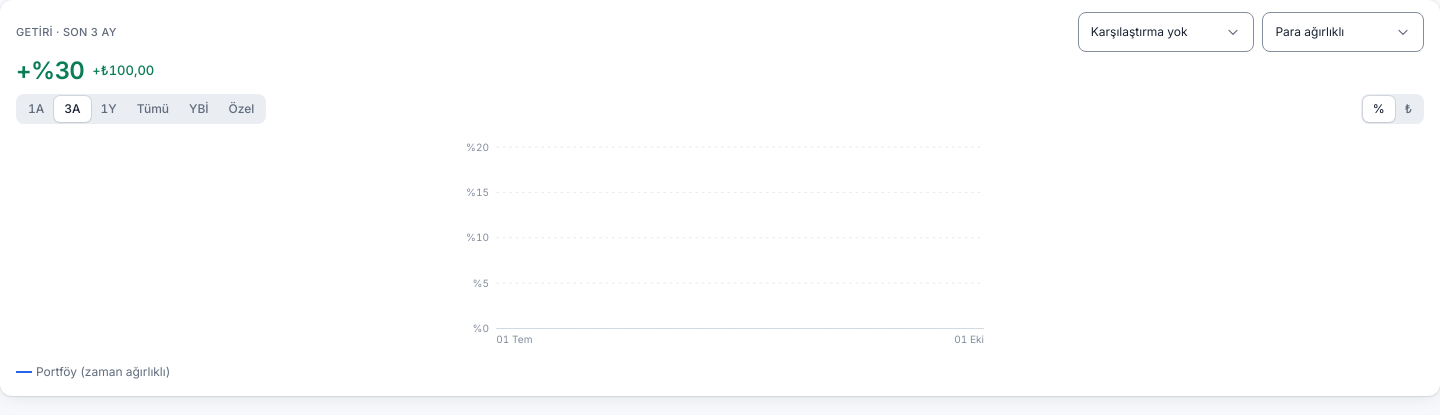
it: ReturnCard › percent mode › switches to the value chart and keeps the choice
Click the radio button labelled "₺": coordinates (1408, 109) [1395,96,1422,122]
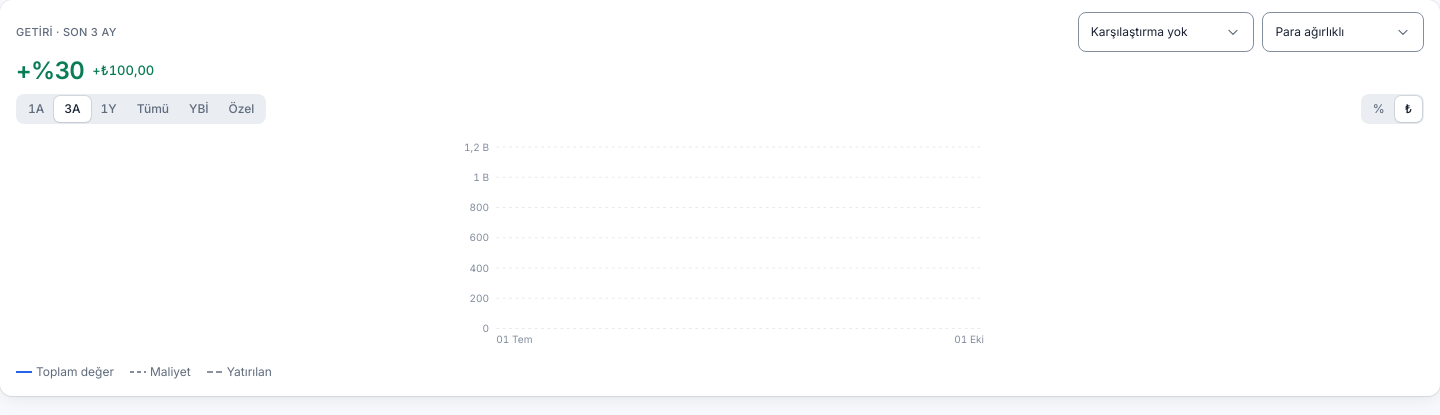
Result: the element showing "Toplam değer Maliyet Yatırılan" is shown at [16,364,272,380]
Press ArrowRight in the icon "01 Tem 01 Eki 0 200 400 600 800 1 B 1,2 B", box [16,136,1424,356]
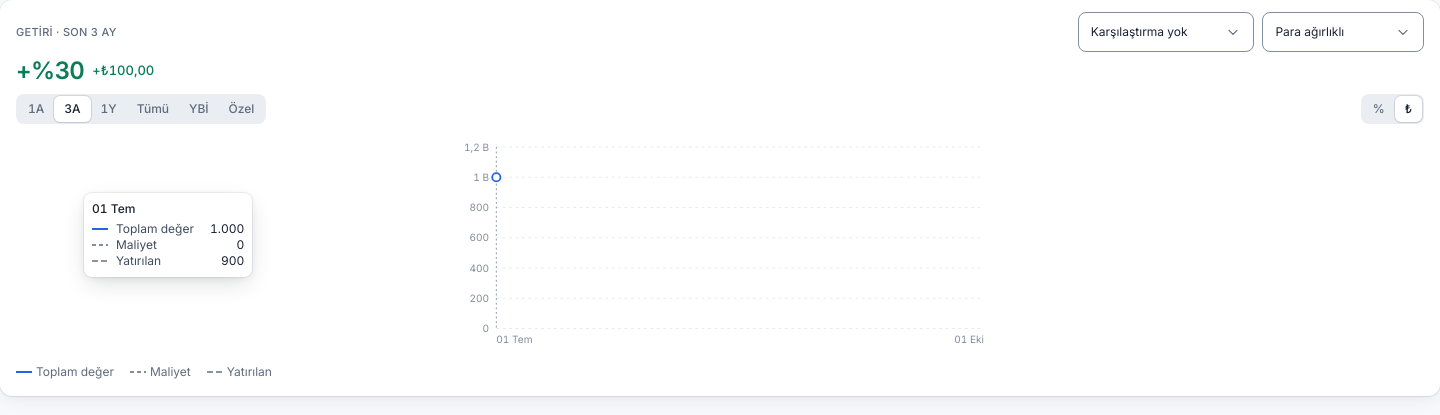
Press ArrowRight in the icon "01 Tem 01 Eki 0 200 400 600 800 1 B 1,2 B", box [16,136,1424,356]
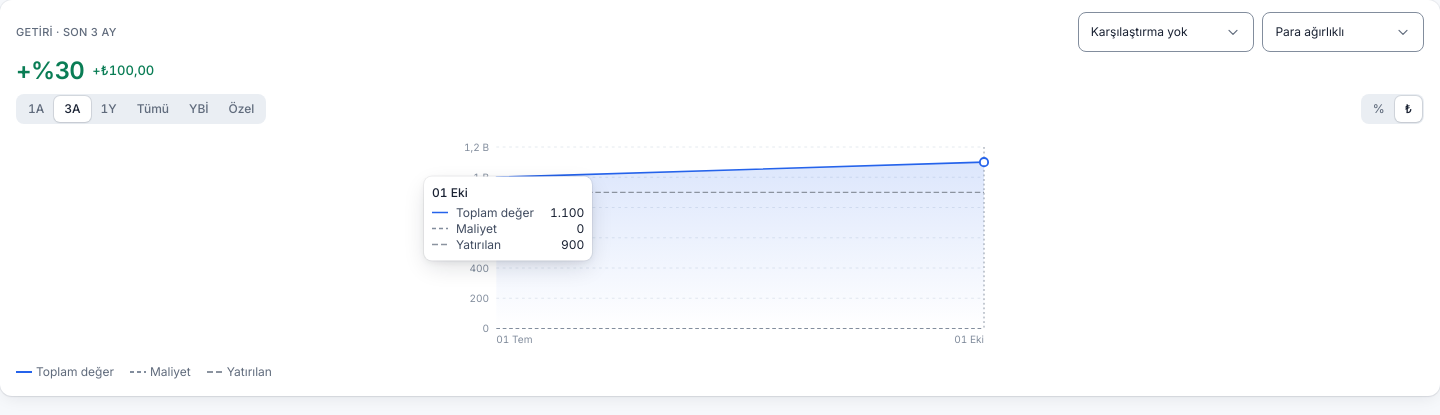
Result: the tooltip "01 Eki Toplam değer 1.100 Maliyet 0 Yatırılan 900" is shown at [424,176,592,260]
